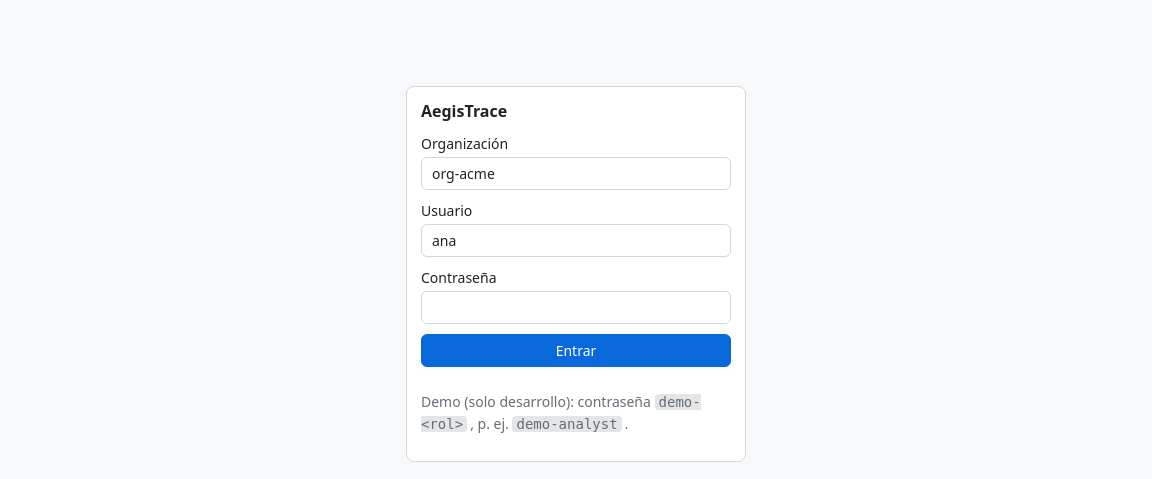
Scenario: web app › logs in, shows the dashboard and hides the audit tab from analysts
The width and height of the screenshot is (1152, 479).
Type "demo-analyst" into the password field labelled "Contraseña".
click(576, 308); type("demo-analyst")  # box [421,291,731,324]
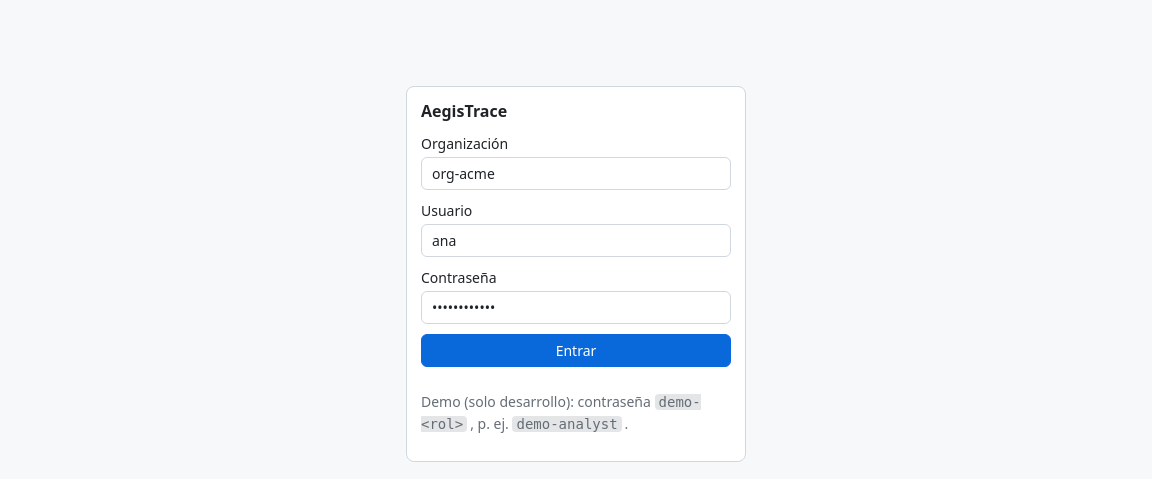
Click the button "Entrar".
click(576, 351)  # box [421,334,731,367]
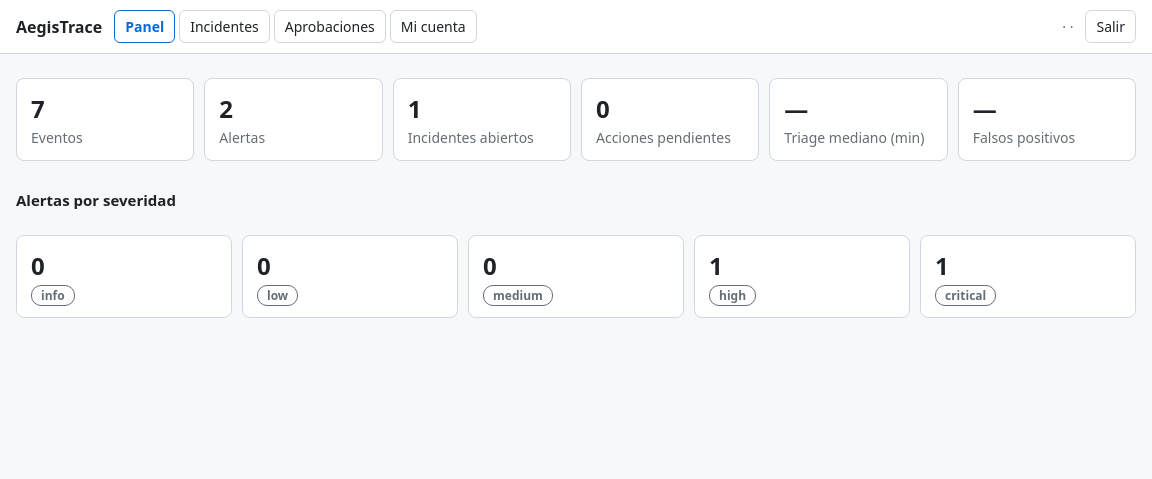
Now the text "Incidentes abiertos" is shown, box [408,128,534,147]
Now the button "Aprobaciones" is shown, box [274,10,386,43]
